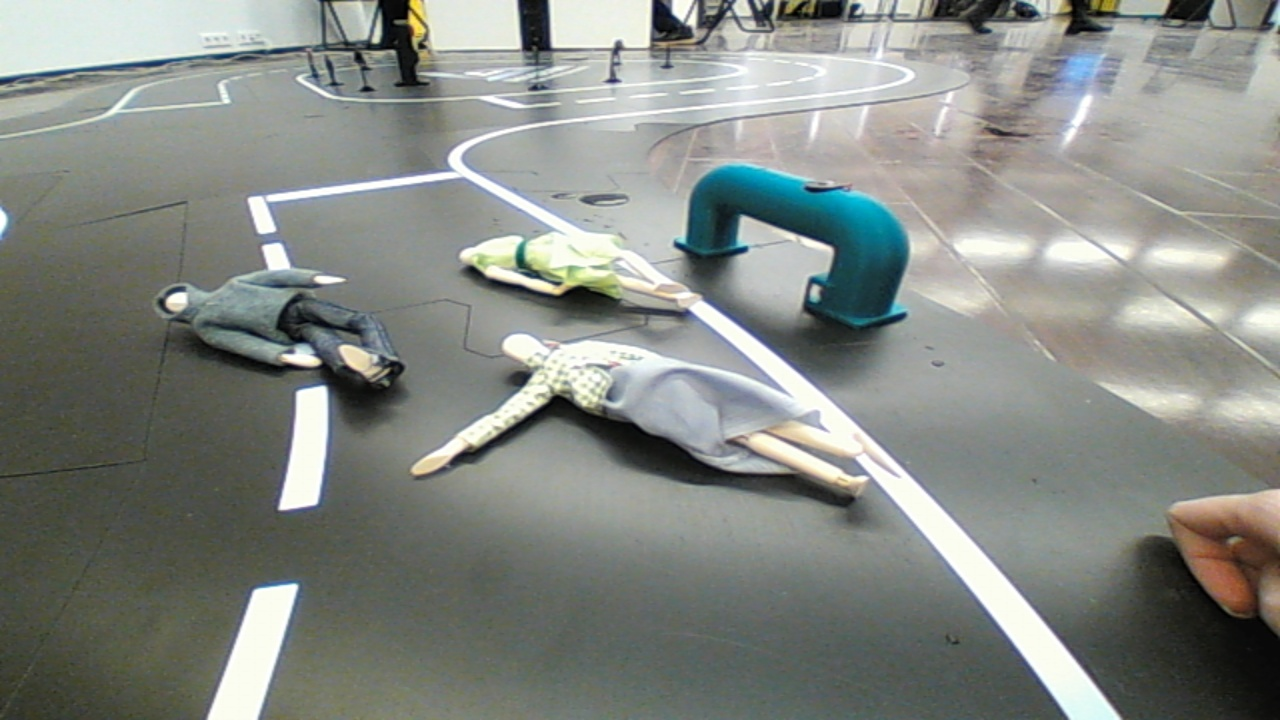Pedestrian crossing: (655, 146, 931, 340)
Road works: (376, 322, 911, 518), (125, 262, 425, 398), (456, 222, 707, 322)
